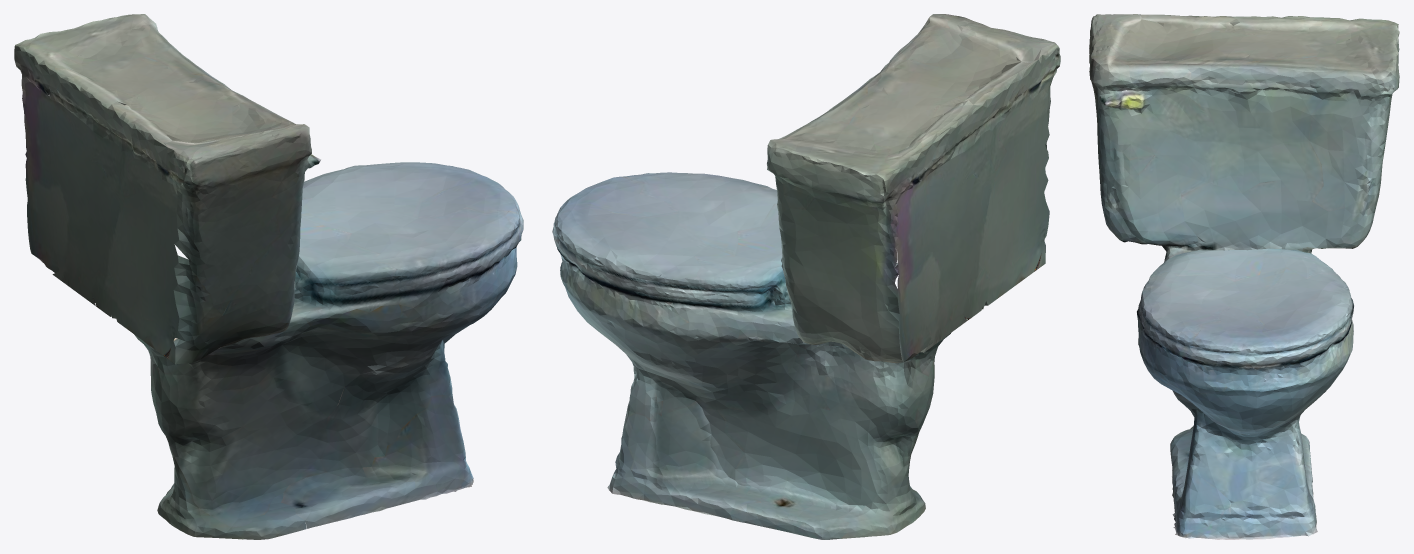
Rendered from Toilet2-2048.glb.
3 renders of one model, left to right at view 1: azimuth 30°, elevation 25°; view 2: azimuth 150°, elevation 25°; view 3: azimuth 270°, elevation 25°, orthographic. The views are drawn at different scales.
Visible parts, largest first — view 1: Mesh_0.004; view 2: Mesh_0.004; view 3: Mesh_0.004.
Part boxes in pixels (left/top/right/bottom): Mesh_0.004: left=14, top=14, right=523, bottom=539; Mesh_0.004: left=552, top=14, right=1060, bottom=539; Mesh_0.004: left=1089, top=14, right=1399, bottom=539.
Bounding box in the file's own units: 0.6941 × 0.7135 × 0.5224.
Materials: 1 (1 with a texture image).
